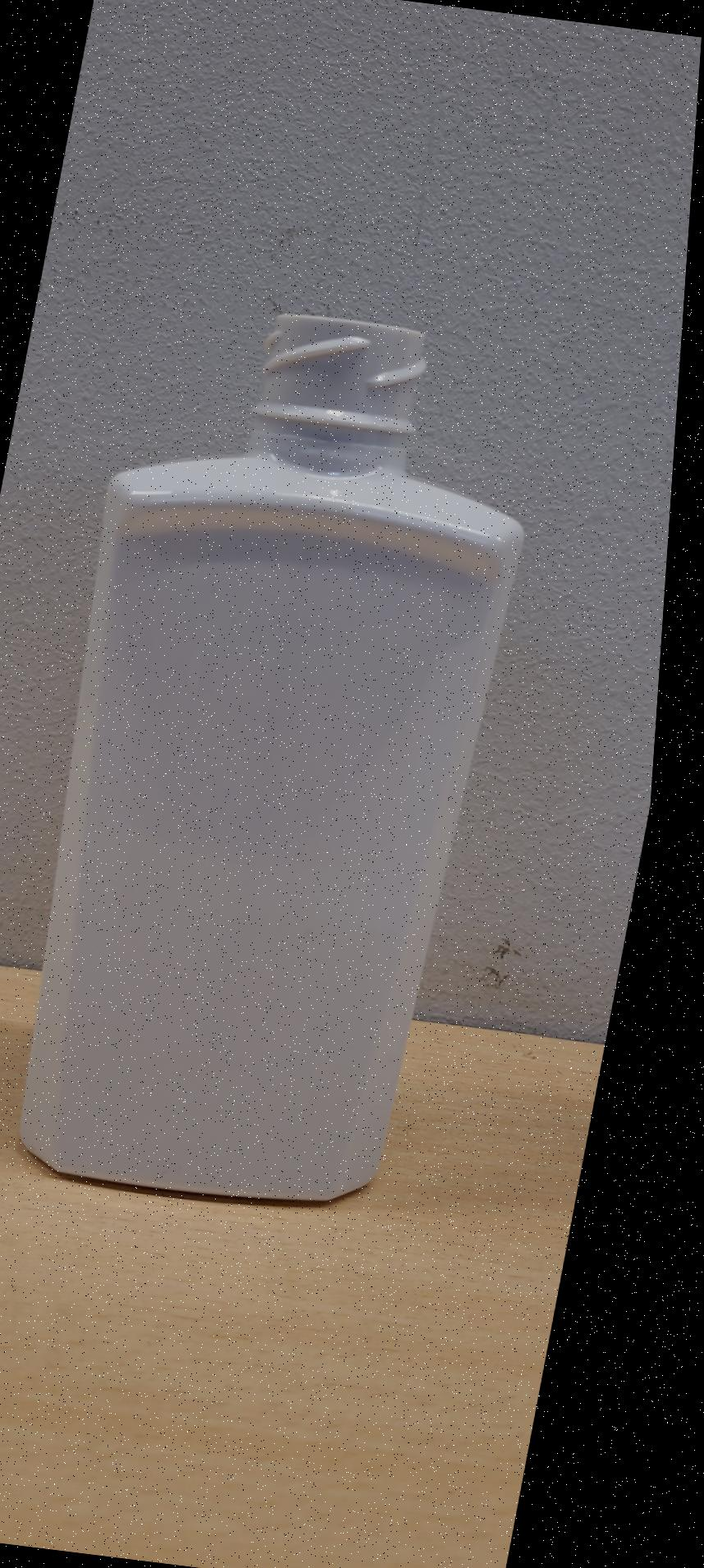bottle: (20, 314, 523, 1202)
